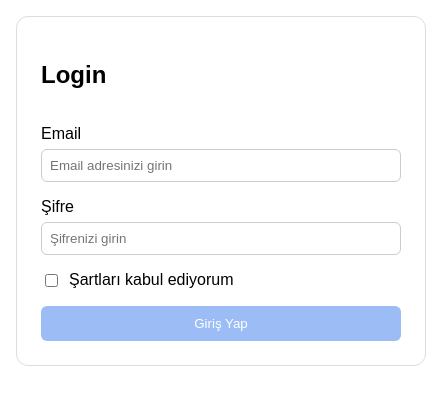
Test case: Login Formu › Hatalı senaryolar › Email yanlış girilince 1 hata mesajı görünüyor ve buton disabled kalıyor
Type "yanlis-email" into the field with test id "email-input" at (221, 166), box [41,149,401,182]
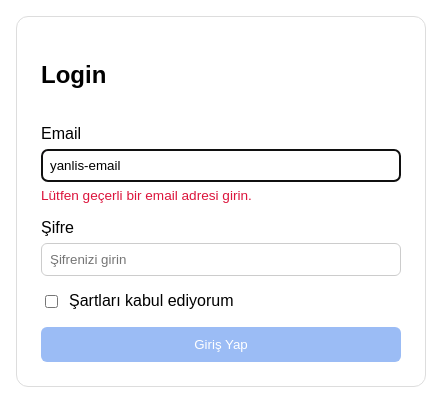
Check: the button with test id "submit-button" is disabled, box [41,327,401,362]
Check: the text "Lütfen geçerli bir email adresi girin." is shown, box [41,188,252,203]
